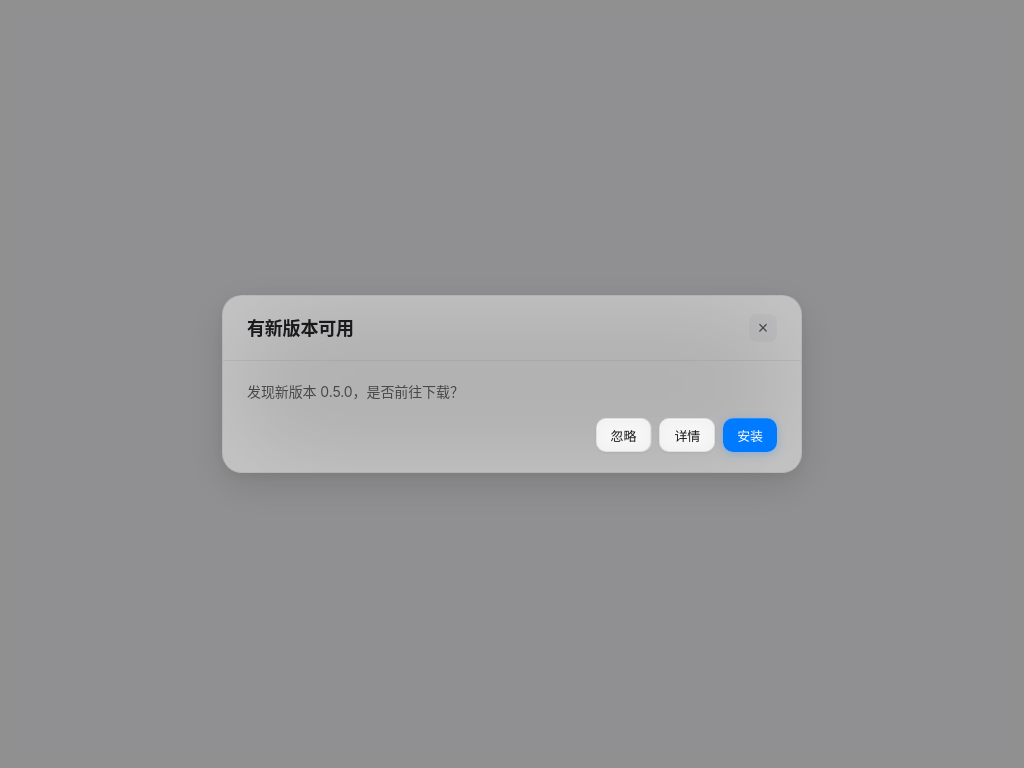
UpdateDialog › should show error when download fails
The width and height of the screenshot is (1024, 768).
Click the button "安装". click: click(750, 435)
box: [723,418,777,452]
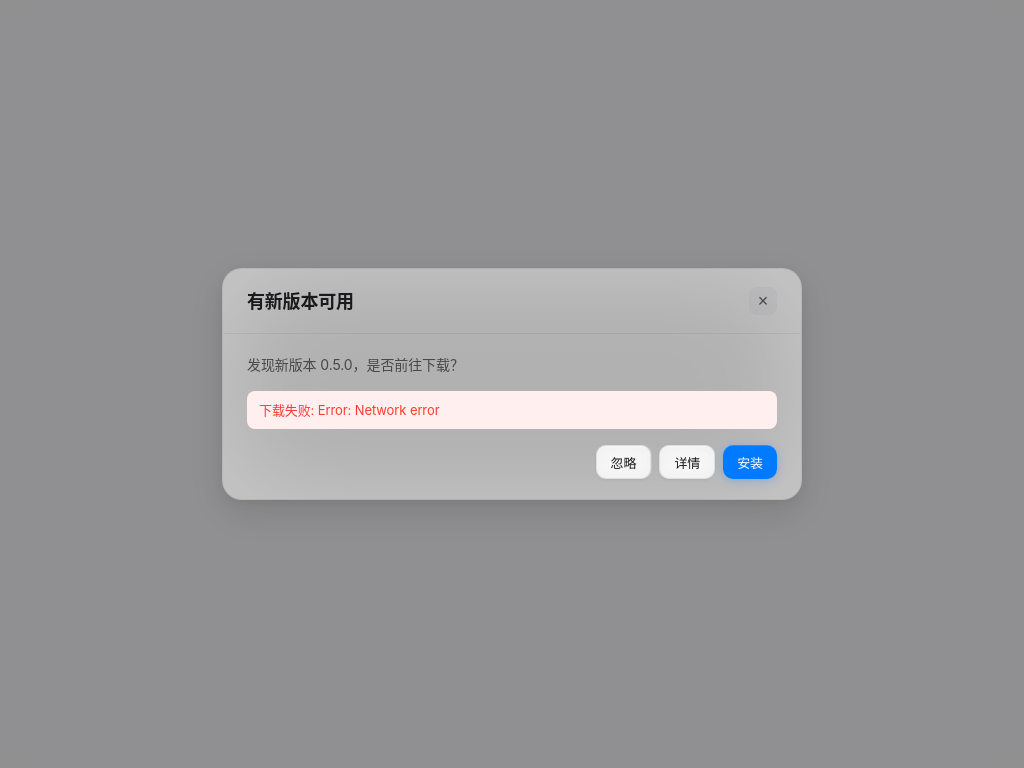
Expected: the text "下载失败: Error: Network error" is shown, [247,391,777,429]
